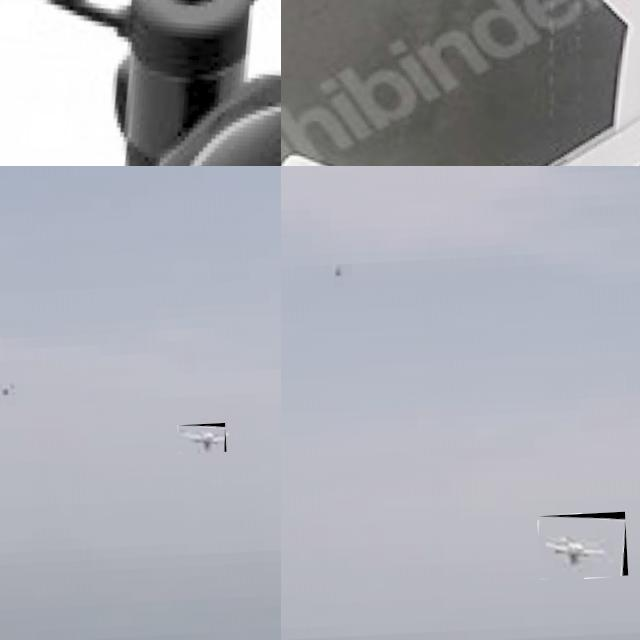0: (537, 512, 628, 580), (177, 423, 227, 454)
drone: (281, 0, 640, 166), (0, 0, 281, 166)
